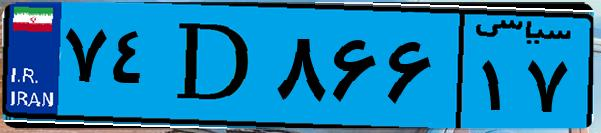1: (475, 38, 525, 113)
4: (110, 28, 158, 98)
6: (385, 28, 445, 110), (330, 28, 385, 110)
7: (57, 26, 110, 100), (525, 38, 570, 115)
8: (270, 28, 330, 110)
D: (158, 12, 270, 120)
